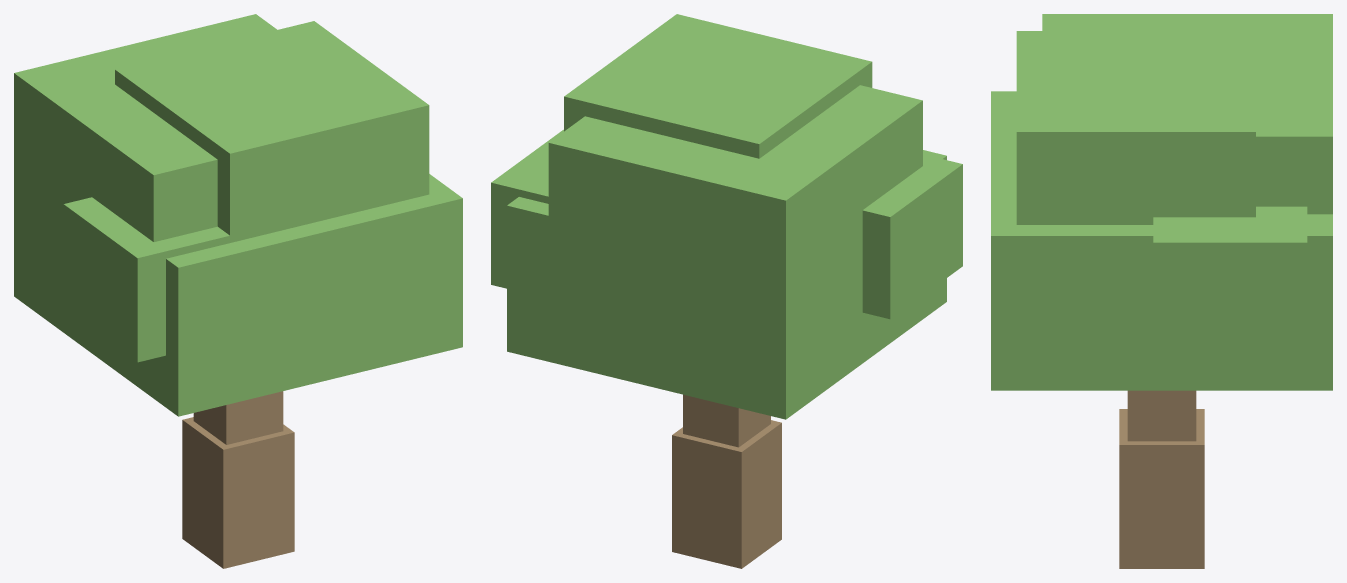
Rendered from oaktree.glb.
3 views of the same model, side by side, from view 1: azimuth 30°, elevation 25°; view 2: azimuth 150°, elevation 25°; view 3: azimuth 270°, elevation 25° (orthographic). The views are drawn at different scales.
Parts seen in each view (by area): view 1: Prop_OakTree; view 2: Prop_OakTree; view 3: Prop_OakTree.
Boxes of the visible parts, x1=… form: Prop_OakTree: x1=14, y1=14, x2=462, y2=568; Prop_OakTree: x1=491, y1=14, x2=962, y2=568; Prop_OakTree: x1=991, y1=14, x2=1332, y2=568.
Size of the model in its own units: 4.8 by 6.2 by 4.
